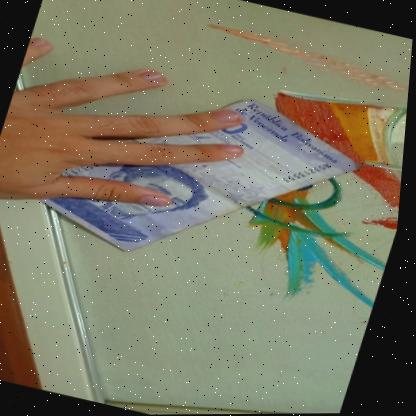ten-front-vef: (23, 59, 380, 297)
